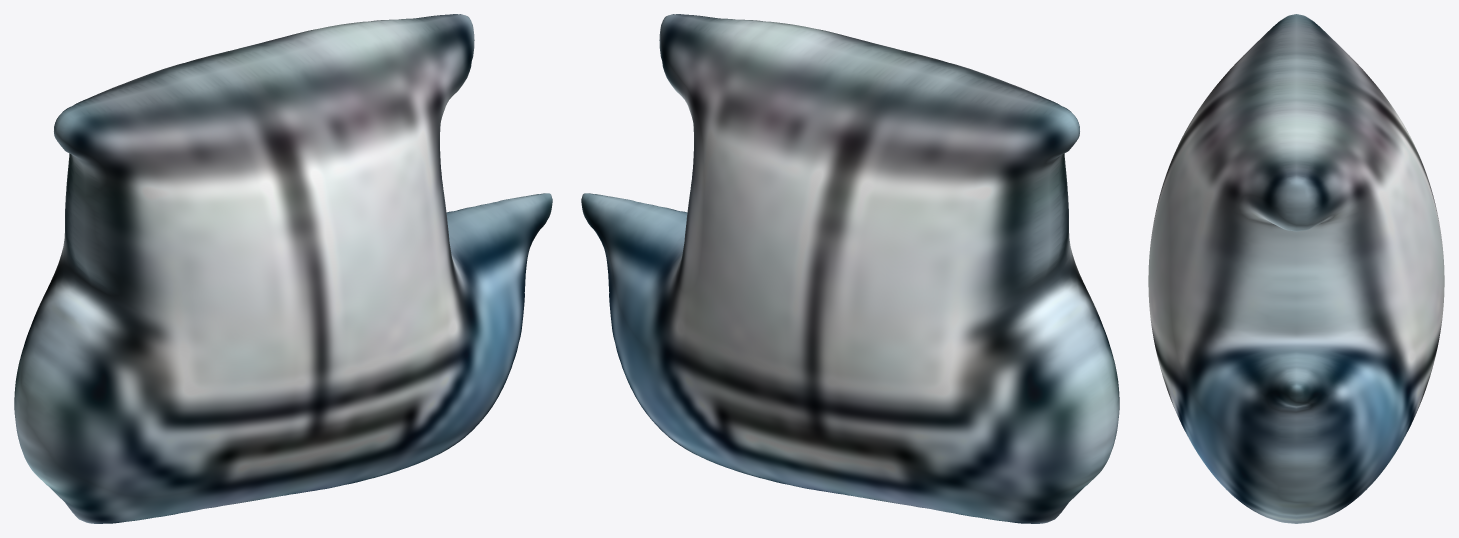
Rendered from BlueBoat.fbx.
3 views of the same model, side by side, from view 1: azimuth 30°, elevation 25°; view 2: azimuth 150°, elevation 25°; view 3: azimuth 270°, elevation 25° (orthographic). The views are drawn at different scales.
Parts seen in each view (by area): view 1: BlueBoat; view 2: BlueBoat; view 3: BlueBoat.
Boxes of the visible parts, x1,y1,x2,y2 form: BlueBoat: [14, 14, 552, 523]; BlueBoat: [581, 14, 1119, 523]; BlueBoat: [1148, 14, 1444, 523].
Size of the model in its own units: 27.61 by 21.76 by 15.67.
1 material, 1 textured.
